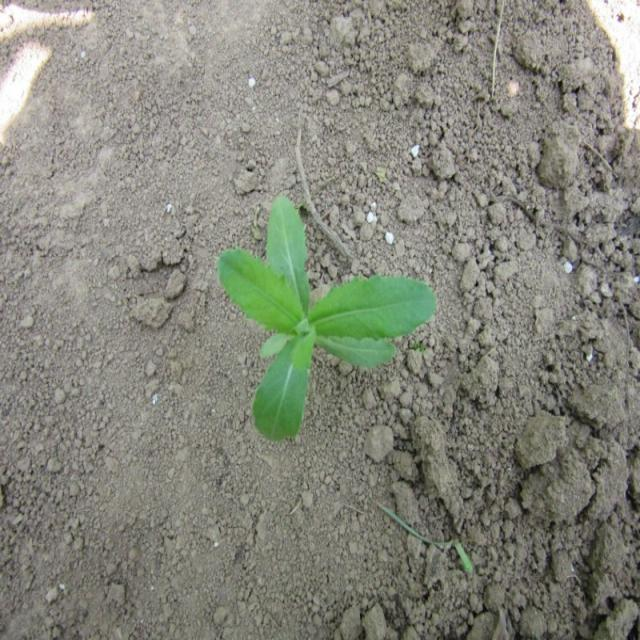field_thistle: (185, 192, 422, 448)
